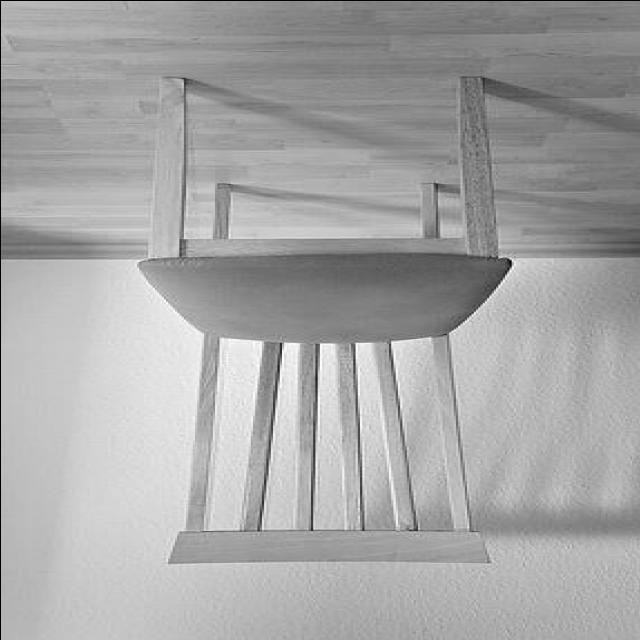chair: (136, 75, 498, 562)
